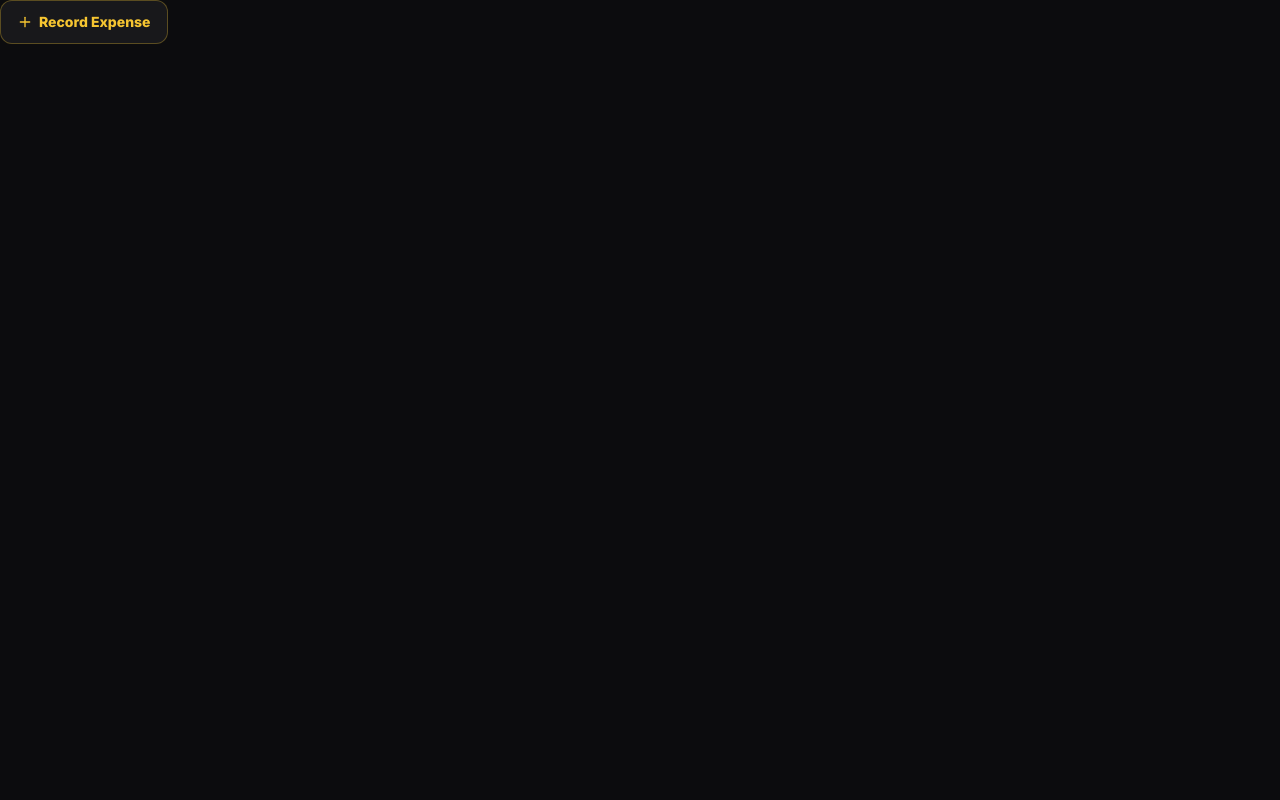
on the worker’s phone › says Recorded when the shop records straight away, and Waiting when it does not
The image size is (1280, 800).
Later steps or results of the test are not shown.
Click the button "Record Expense".
click(84, 22)  # box [0, 0, 168, 44]
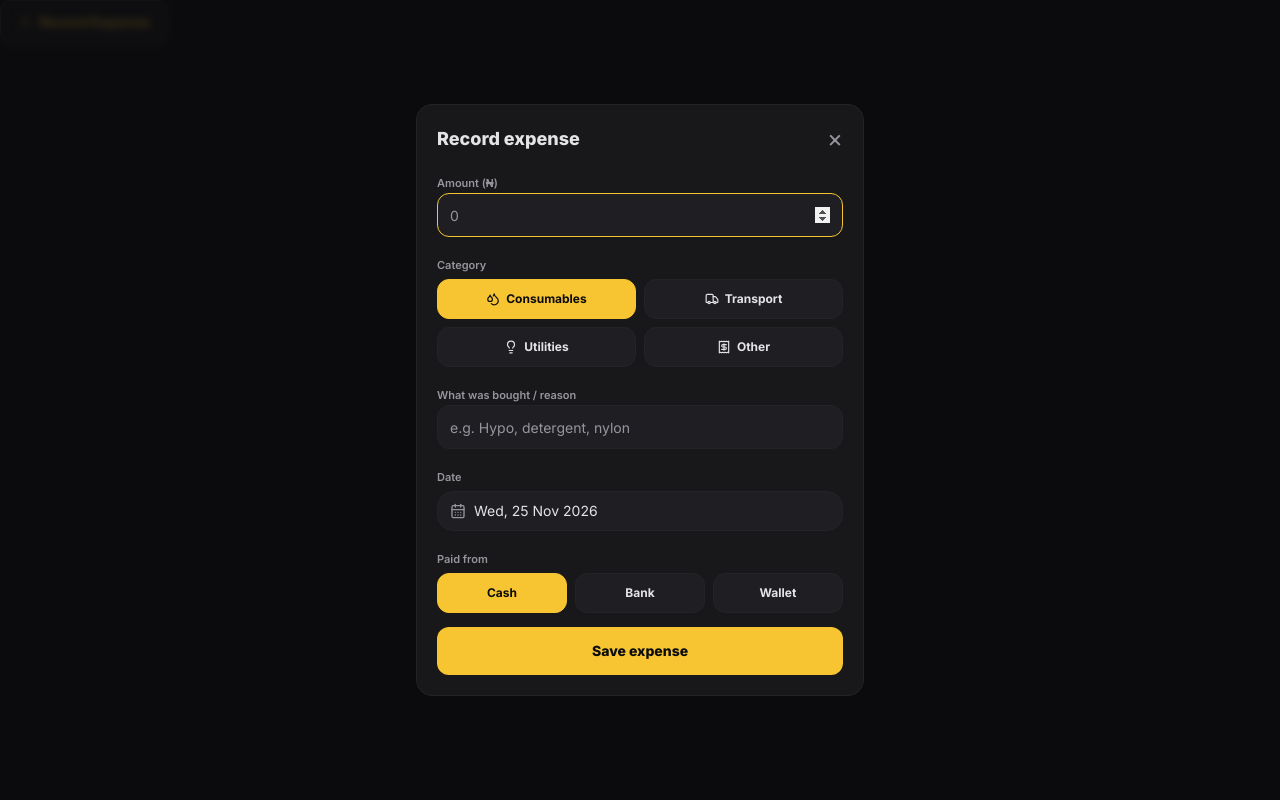
Type "200" into the number field with placeholder "0".
click(640, 215); type("200")  # box [437, 193, 843, 237]
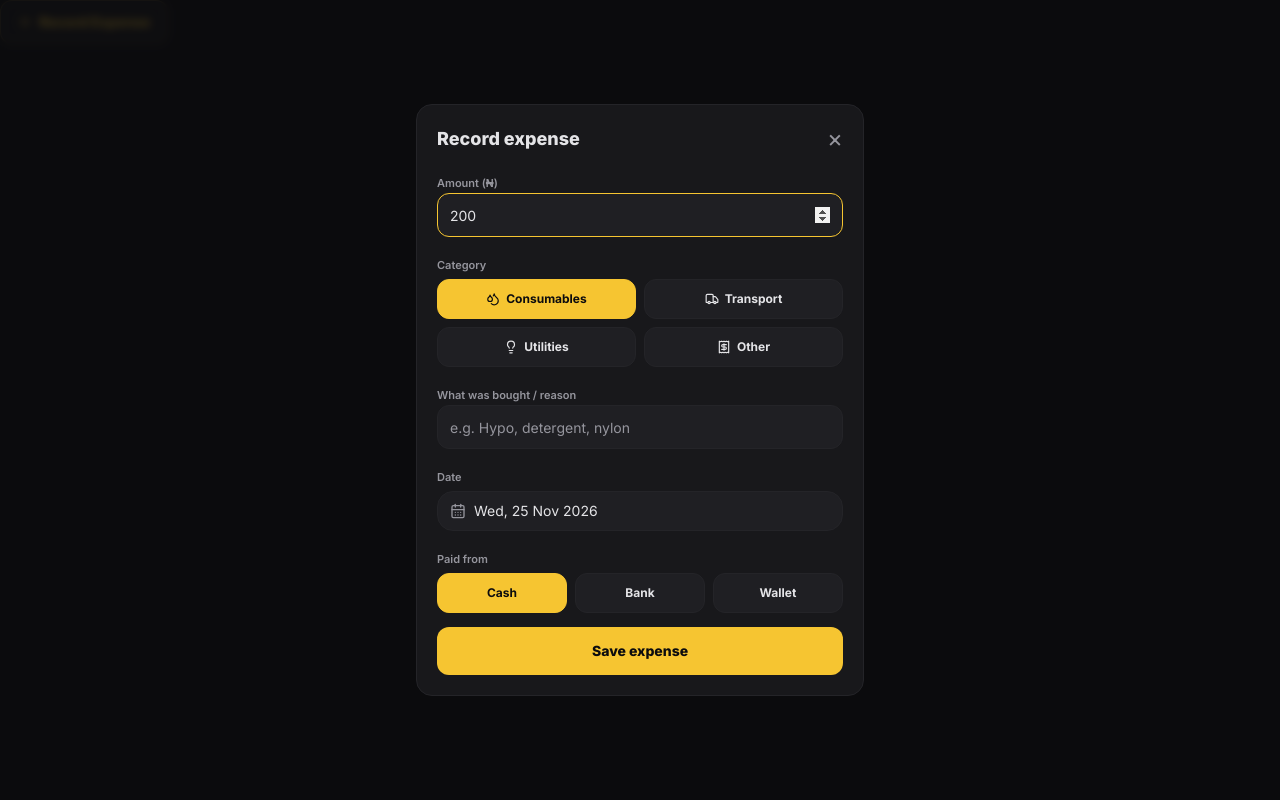
Type "Hypo" into the field with placeholder "e.g. Hypo, detergent, nylon".
click(640, 427); type("Hypo")  # box [437, 405, 843, 449]
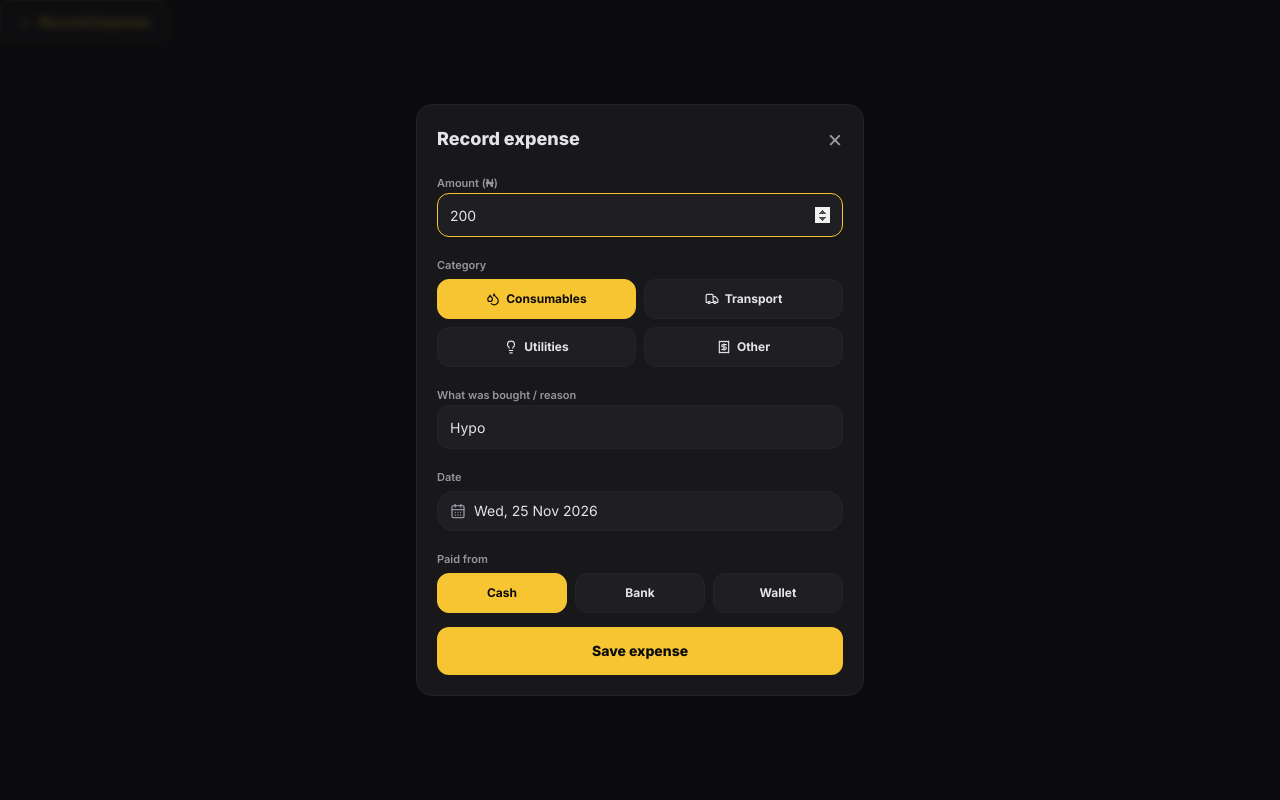
Click the button "Save expense".
click(640, 651)  # box [437, 627, 843, 675]
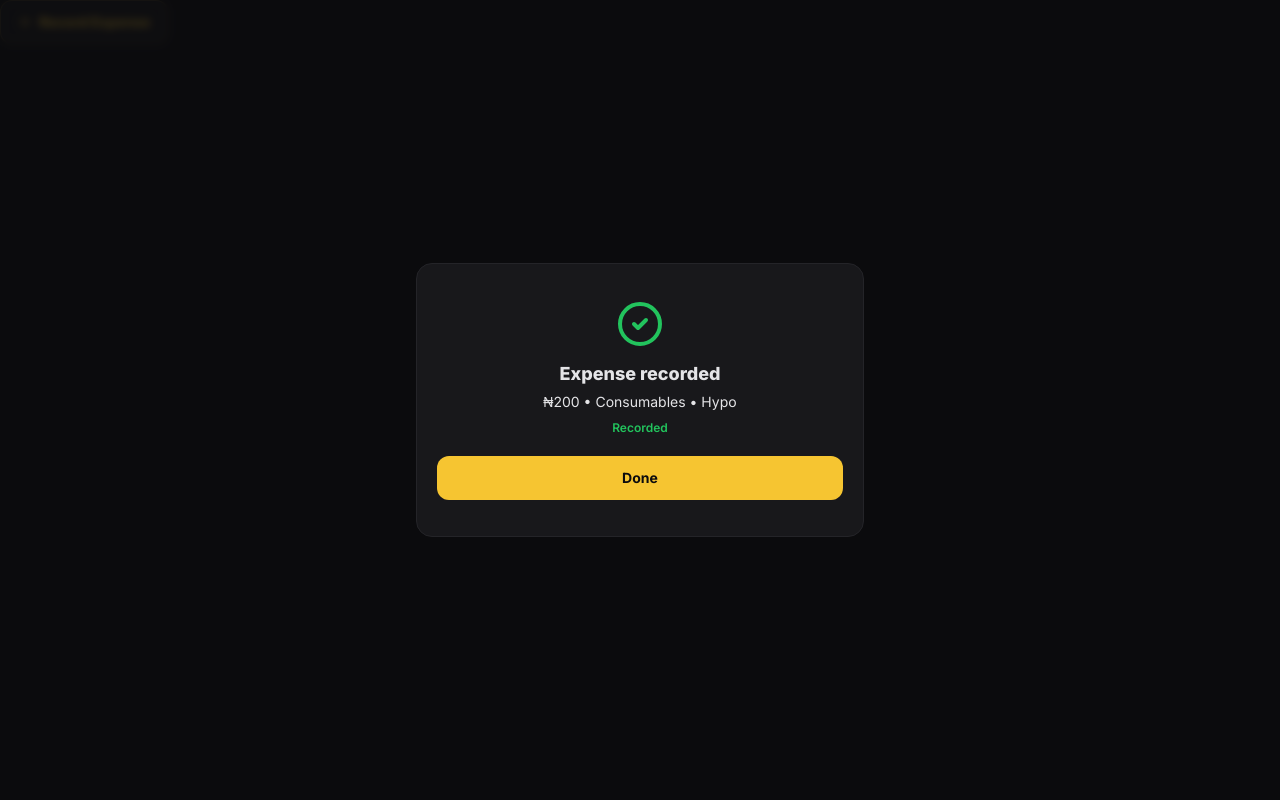
Result: the text "Recorded" is shown at [612, 420, 668, 435]
